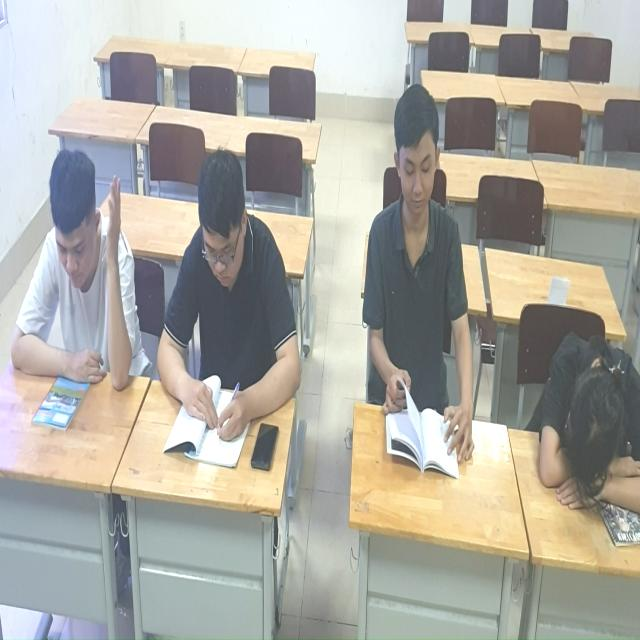raise_hand: (2, 139, 143, 453)
read: (356, 68, 486, 507), (151, 140, 309, 482)
sleep: (533, 294, 640, 534)
